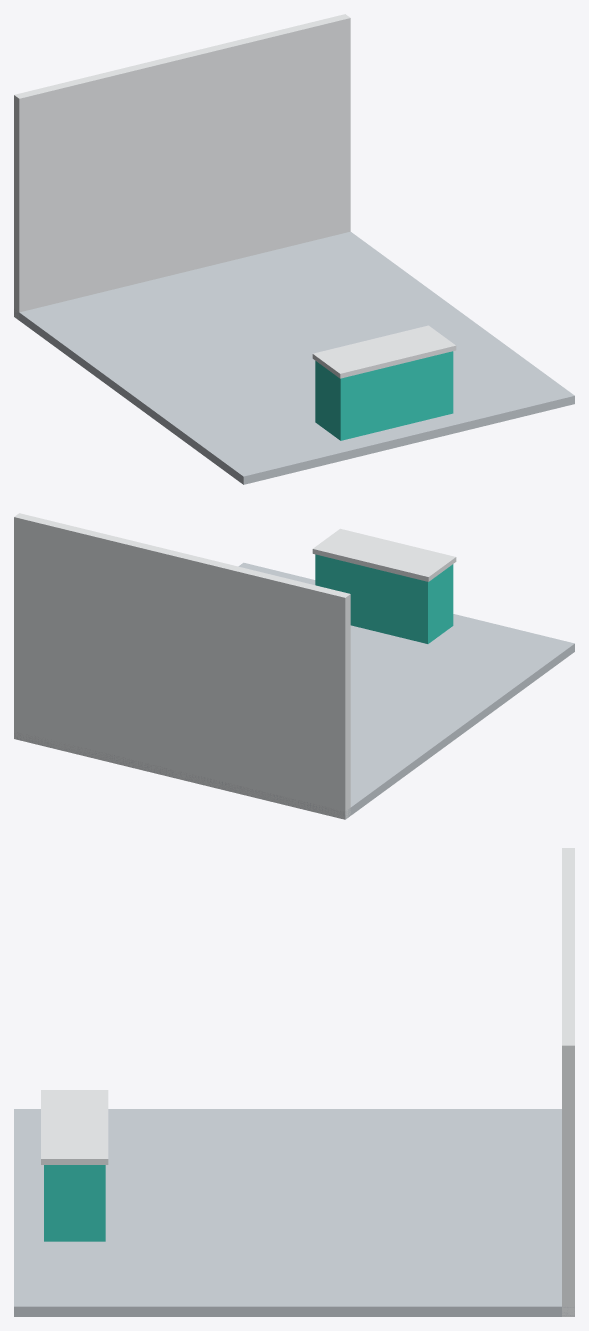
The picture shows the model from 3 angles, top to bottom: view 1: azimuth 30°, elevation 25°; view 2: azimuth 150°, elevation 25°; view 3: azimuth 270°, elevation 25°; orthographic projection. The views are drawn at different scales.
Parts seen in each view (by area): view 1: Exhibition Booth Concept; view 2: Exhibition Booth Concept; view 3: Exhibition Booth Concept.
Boxes of the visible parts, x1,y1,x2,y2 form: Exhibition Booth Concept: (14,14,574,484); Exhibition Booth Concept: (14,513,574,819); Exhibition Booth Concept: (14,848,574,1316).
Size of the model in its own units: 5 by 3.2 by 6.
